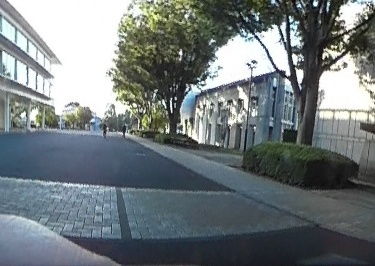person: (100, 122, 108, 137), (121, 123, 126, 137)
